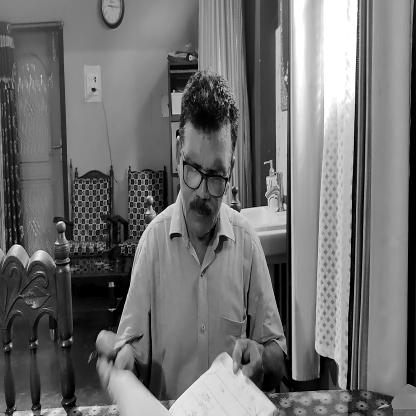Normal: (172, 72, 235, 239)
